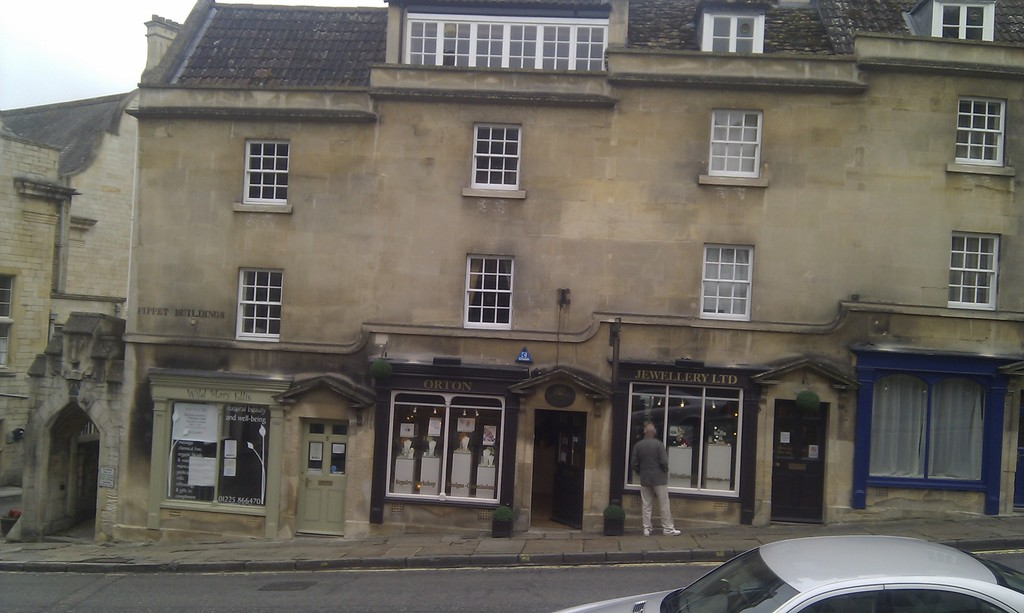Car: (549, 537, 1023, 612)
